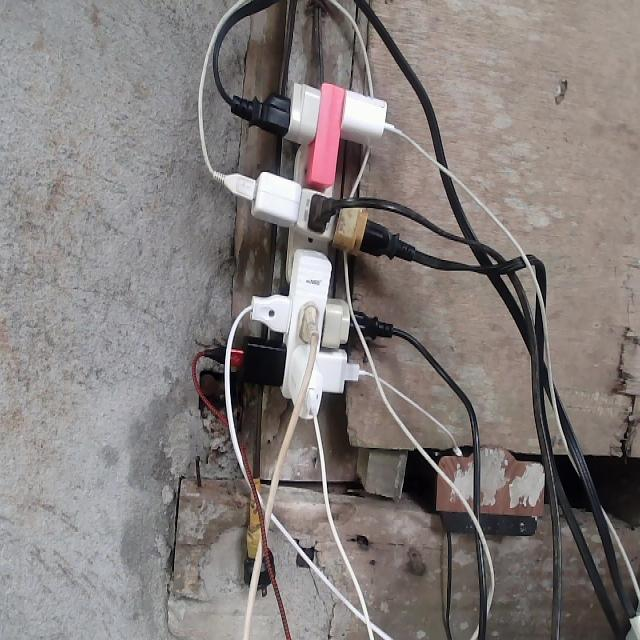-: (202, 80, 415, 421)
